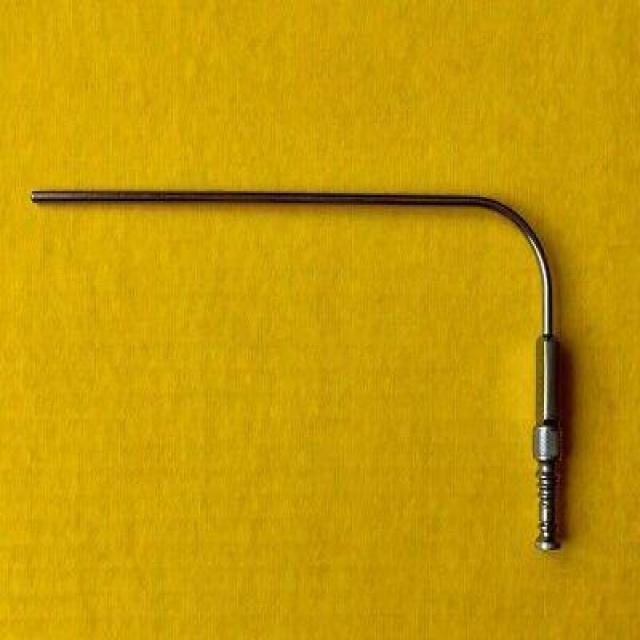Frazier: (27, 180, 571, 560)
